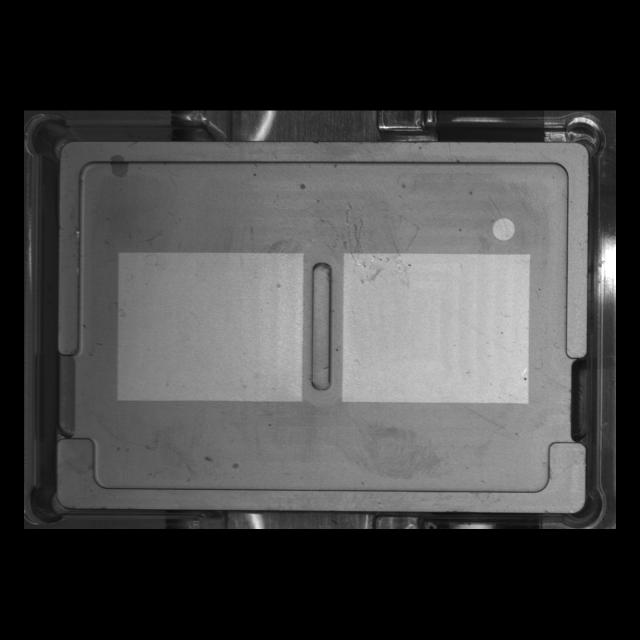door: (43, 419, 595, 520)
point: (488, 210, 522, 248)
